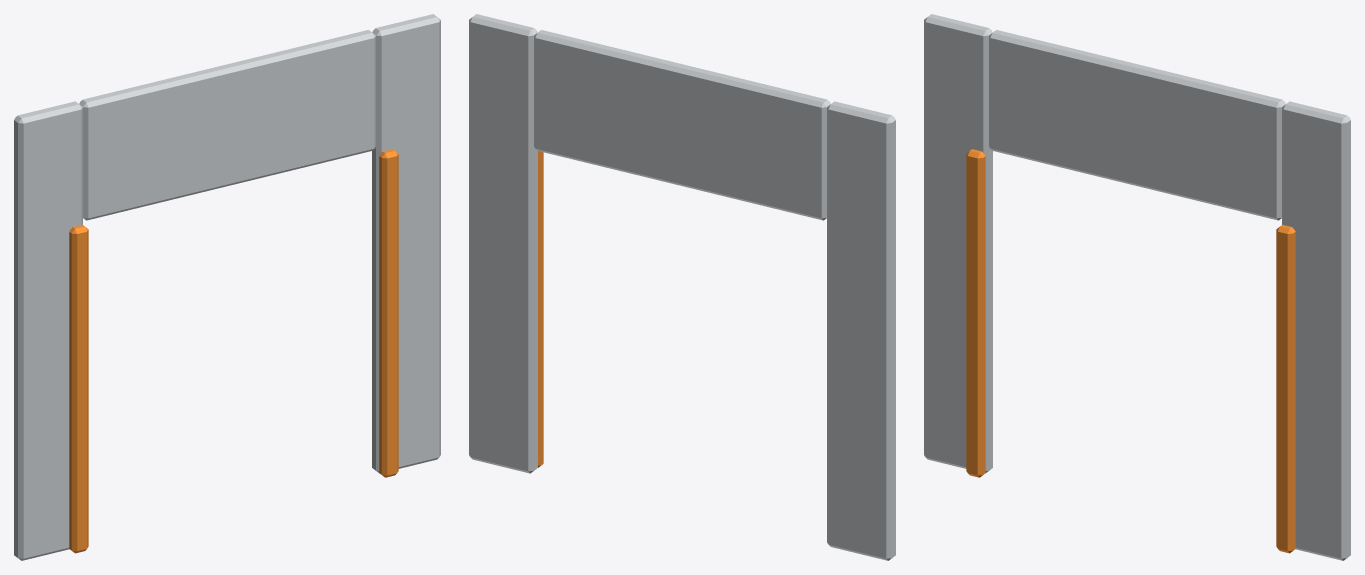
File: base-DoorwayDouble.fbx
The picture shows the model from 3 angles, left to right: view 1: azimuth 30°, elevation 25°; view 2: azimuth 150°, elevation 25°; view 3: azimuth 330°, elevation 25°; orthographic projection.
Parts seen in each view (by area): view 1: base-DoorwayDouble_Header.001, base-DoorwayDouble_Jamb.002, base-DoorwayDouble_Jamb.003, base-DoorwayDouble_Seal.002, base-DoorwayDouble_Seal.003; view 2: base-DoorwayDouble_Header.001, base-DoorwayDouble_Jamb.002, base-DoorwayDouble_Jamb.003, base-DoorwayDouble_Seal.003; view 3: base-DoorwayDouble_Header.001, base-DoorwayDouble_Jamb.003, base-DoorwayDouble_Jamb.002, base-DoorwayDouble_Seal.003, base-DoorwayDouble_Seal.002.
Part boxes in pixels (x1=…): base-DoorwayDouble_Header.001: x1=79, y1=30, x2=375, y2=220; base-DoorwayDouble_Jamb.002: x1=14, y1=101, x2=82, y2=560; base-DoorwayDouble_Jamb.003: x1=372, y1=14, x2=440, y2=473; base-DoorwayDouble_Seal.002: x1=69, y1=225, x2=88, y2=553; base-DoorwayDouble_Seal.003: x1=379, y1=149, x2=398, y2=477; base-DoorwayDouble_Header.001: x1=534, y1=30, x2=830, y2=220; base-DoorwayDouble_Jamb.002: x1=827, y1=101, x2=895, y2=560; base-DoorwayDouble_Jamb.003: x1=469, y1=14, x2=537, y2=473; base-DoorwayDouble_Seal.003: x1=538, y1=151, x2=543, y2=467; base-DoorwayDouble_Header.001: x1=989, y1=30, x2=1285, y2=220; base-DoorwayDouble_Jamb.003: x1=1282, y1=101, x2=1350, y2=560; base-DoorwayDouble_Jamb.002: x1=924, y1=14, x2=992, y2=473; base-DoorwayDouble_Seal.003: x1=1276, y1=225, x2=1295, y2=553; base-DoorwayDouble_Seal.002: x1=966, y1=149, x2=985, y2=477.
Size of the model in its own units: 300 by 300 by 17.
